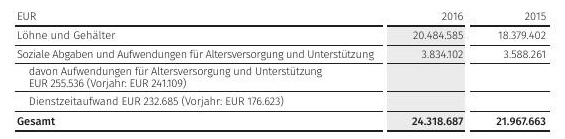table: (0, 0, 565, 139)
